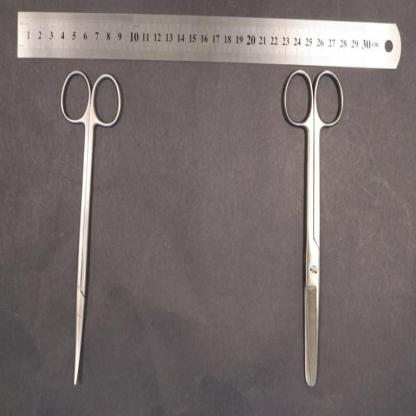7 Metzenbaum Scissors: (60, 68, 124, 385)
Dressing Scissors: (284, 66, 346, 388)
